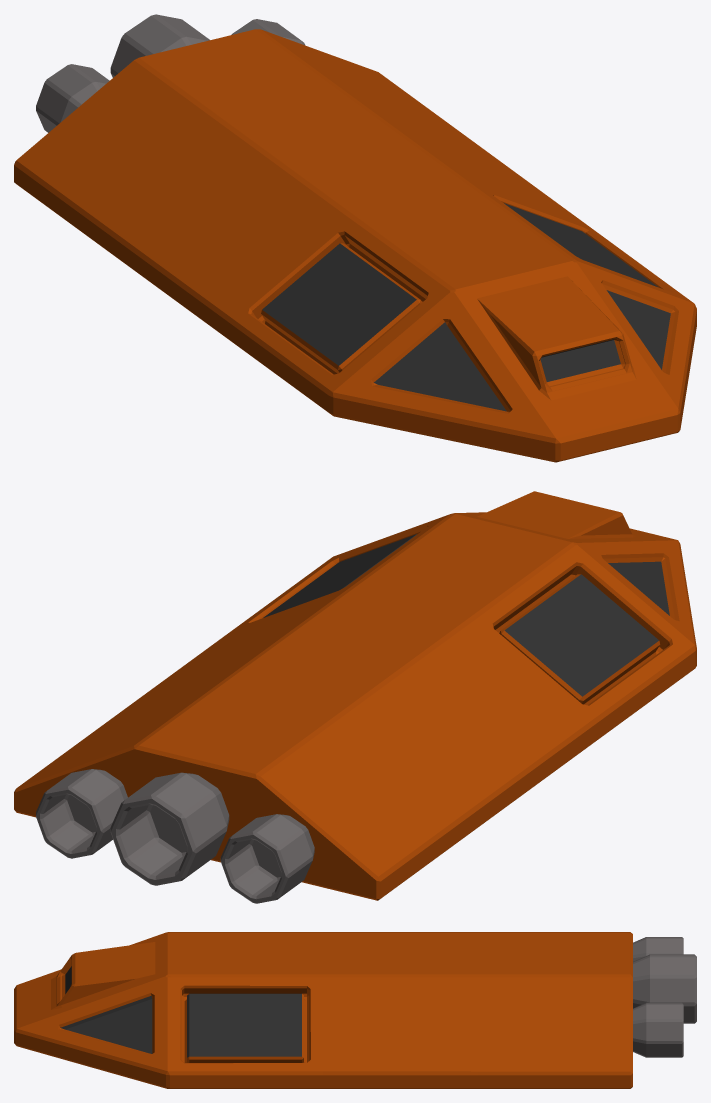
The model's file is cargoship.gltf.
3 renders of one model, top to bottom at view 1: azimuth 30°, elevation 25°; view 2: azimuth 150°, elevation 25°; view 3: azimuth 270°, elevation 25°, orthographic. The views are drawn at different scales.
Parts seen in each view (by area): view 1: Plane, Circle.001, Circle; view 2: Plane, Circle.001, Circle; view 3: Plane, Circle.001, Circle.
Part boxes in pixels (x1,y1,x2,y2): Plane: (14,29,696,462); Circle.001: (36,19,304,132); Circle: (110,14,209,77); Plane: (14,491,696,900); Circle.001: (36,769,314,903); Circle: (110,772,229,885); Plane: (14,932,632,1088); Circle.001: (633,937,683,1057); Circle: (633,954,696,1023).
Size of the model in its own units: 2 by 0.5055 by 4.41.
